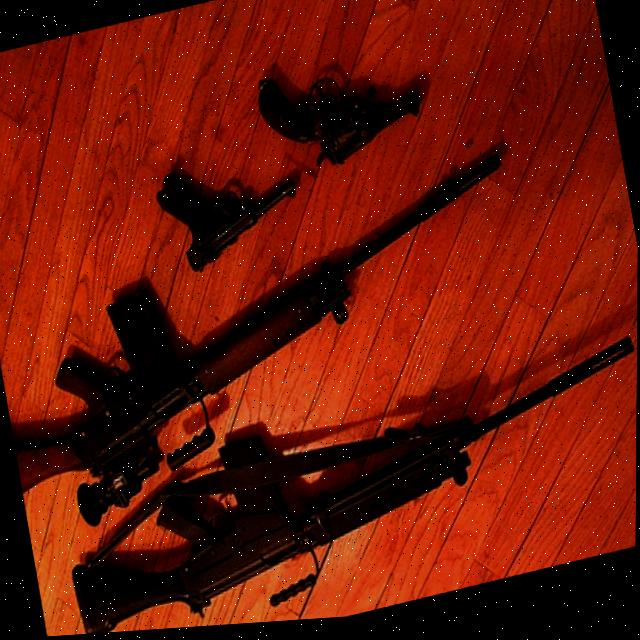firearm: (0, 155, 547, 547), (52, 341, 638, 637)
pistol: (253, 46, 430, 189), (152, 146, 308, 284)
